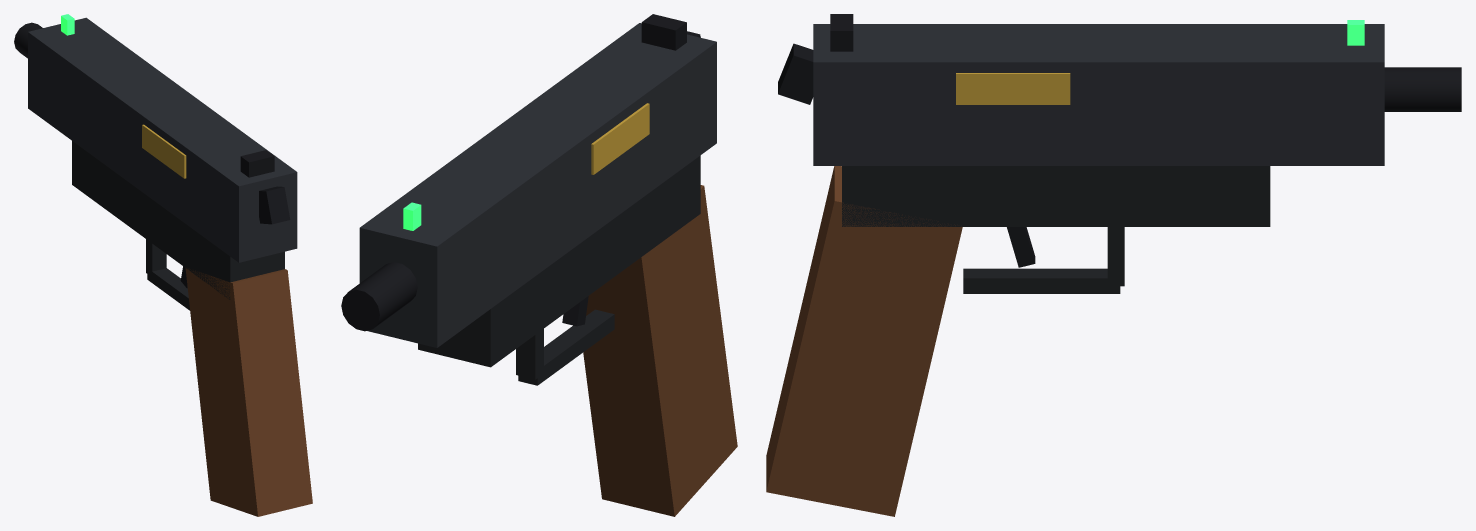
Rendered from pistola.glb.
3 views of the same model, side by side, from view 1: azimuth 30°, elevation 25°; view 2: azimuth 150°, elevation 25°; view 3: azimuth 270°, elevation 25° (orthographic). The views are drawn at different scales.
Visible parts, largest first — view 1: Corredera, Empunadura, Armazon, Ventana, Martillo, Guardamonte, MiraTrasera, GuardamonteFrente, Canon; view 2: Corredera, Empunadura, Armazon, Canon, Guardamonte, Ventana, MiraTrasera, GuardamonteFrente, Gatillo, MiraDelantera; view 3: Corredera, Empunadura, Armazon, Guardamonte, Ventana, Canon, Martillo, GuardamonteFrente, MiraTrasera, Gatillo.
Boxes of the visible parts, left/top/right/bottom form: Corredera: left=28, top=17, right=297, bottom=262; Empunadura: left=185, top=268, right=312, bottom=516; Armazon: left=72, top=141, right=284, bottom=299; Ventana: left=142, top=124, right=186, bottom=178; Martillo: left=259, top=186, right=290, bottom=224; Guardamonte: left=147, top=268, right=189, bottom=310; MiraTrasera: left=240, top=150, right=274, bottom=177; GuardamonteFrente: left=146, top=239, right=166, bottom=276; Canon: left=14, top=22, right=42, bottom=58; Corredera: left=359, top=23, right=716, bottom=347; Empunadura: left=583, top=185, right=737, bottom=516; Armazon: left=418, top=155, right=700, bottom=367; Canon: left=341, top=262, right=417, bottom=331; Guardamonte: left=518, top=309, right=614, bottom=385; Ventana: left=591, top=103, right=649, bottom=174; MiraTrasera: left=641, top=14, right=686, bottom=50; GuardamonteFrente: left=516, top=329, right=543, bottom=379; Gatillo: left=562, top=296, right=588, bottom=326; MiraDelantera: left=403, top=202, right=421, bottom=230; Corredera: left=813, top=24, right=1384, bottom=165; Empunadura: left=766, top=166, right=962, bottom=516; Armazon: left=842, top=166, right=1270, bottom=226; Guardamonte: left=963, top=268, right=1120, bottom=293; Ventana: left=956, top=73, right=1070, bottom=104; Canon: left=1384, top=67, right=1461, bottom=111; Martillo: left=778, top=43, right=813, bottom=104; GuardamonteFrente: left=1107, top=227, right=1124, bottom=286; MiraTrasera: left=830, top=14, right=853, bottom=51; Gatillo: left=1007, top=227, right=1035, bottom=267.
Size of the model in its own units: 0.034 by 0.184 by 0.2435.
